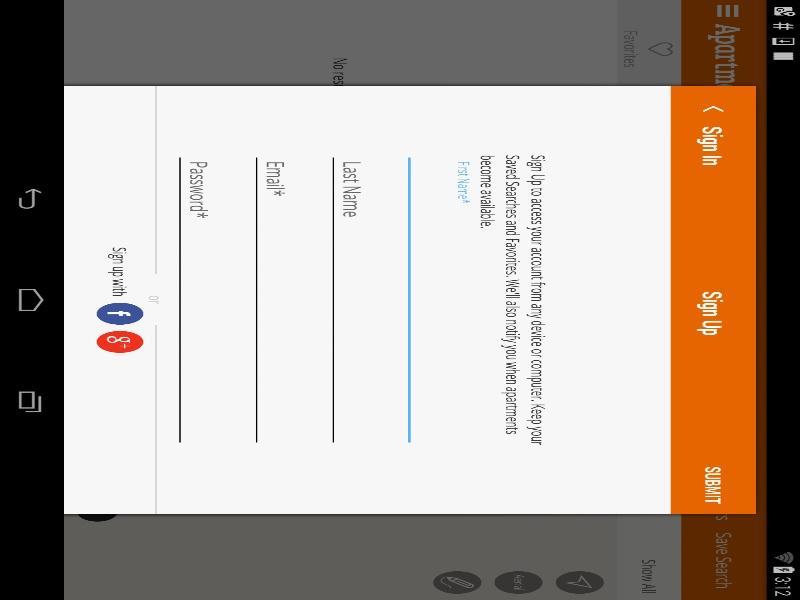Button: (194, 20, 269, 60), (646, 307, 692, 329), (706, 307, 752, 329)
